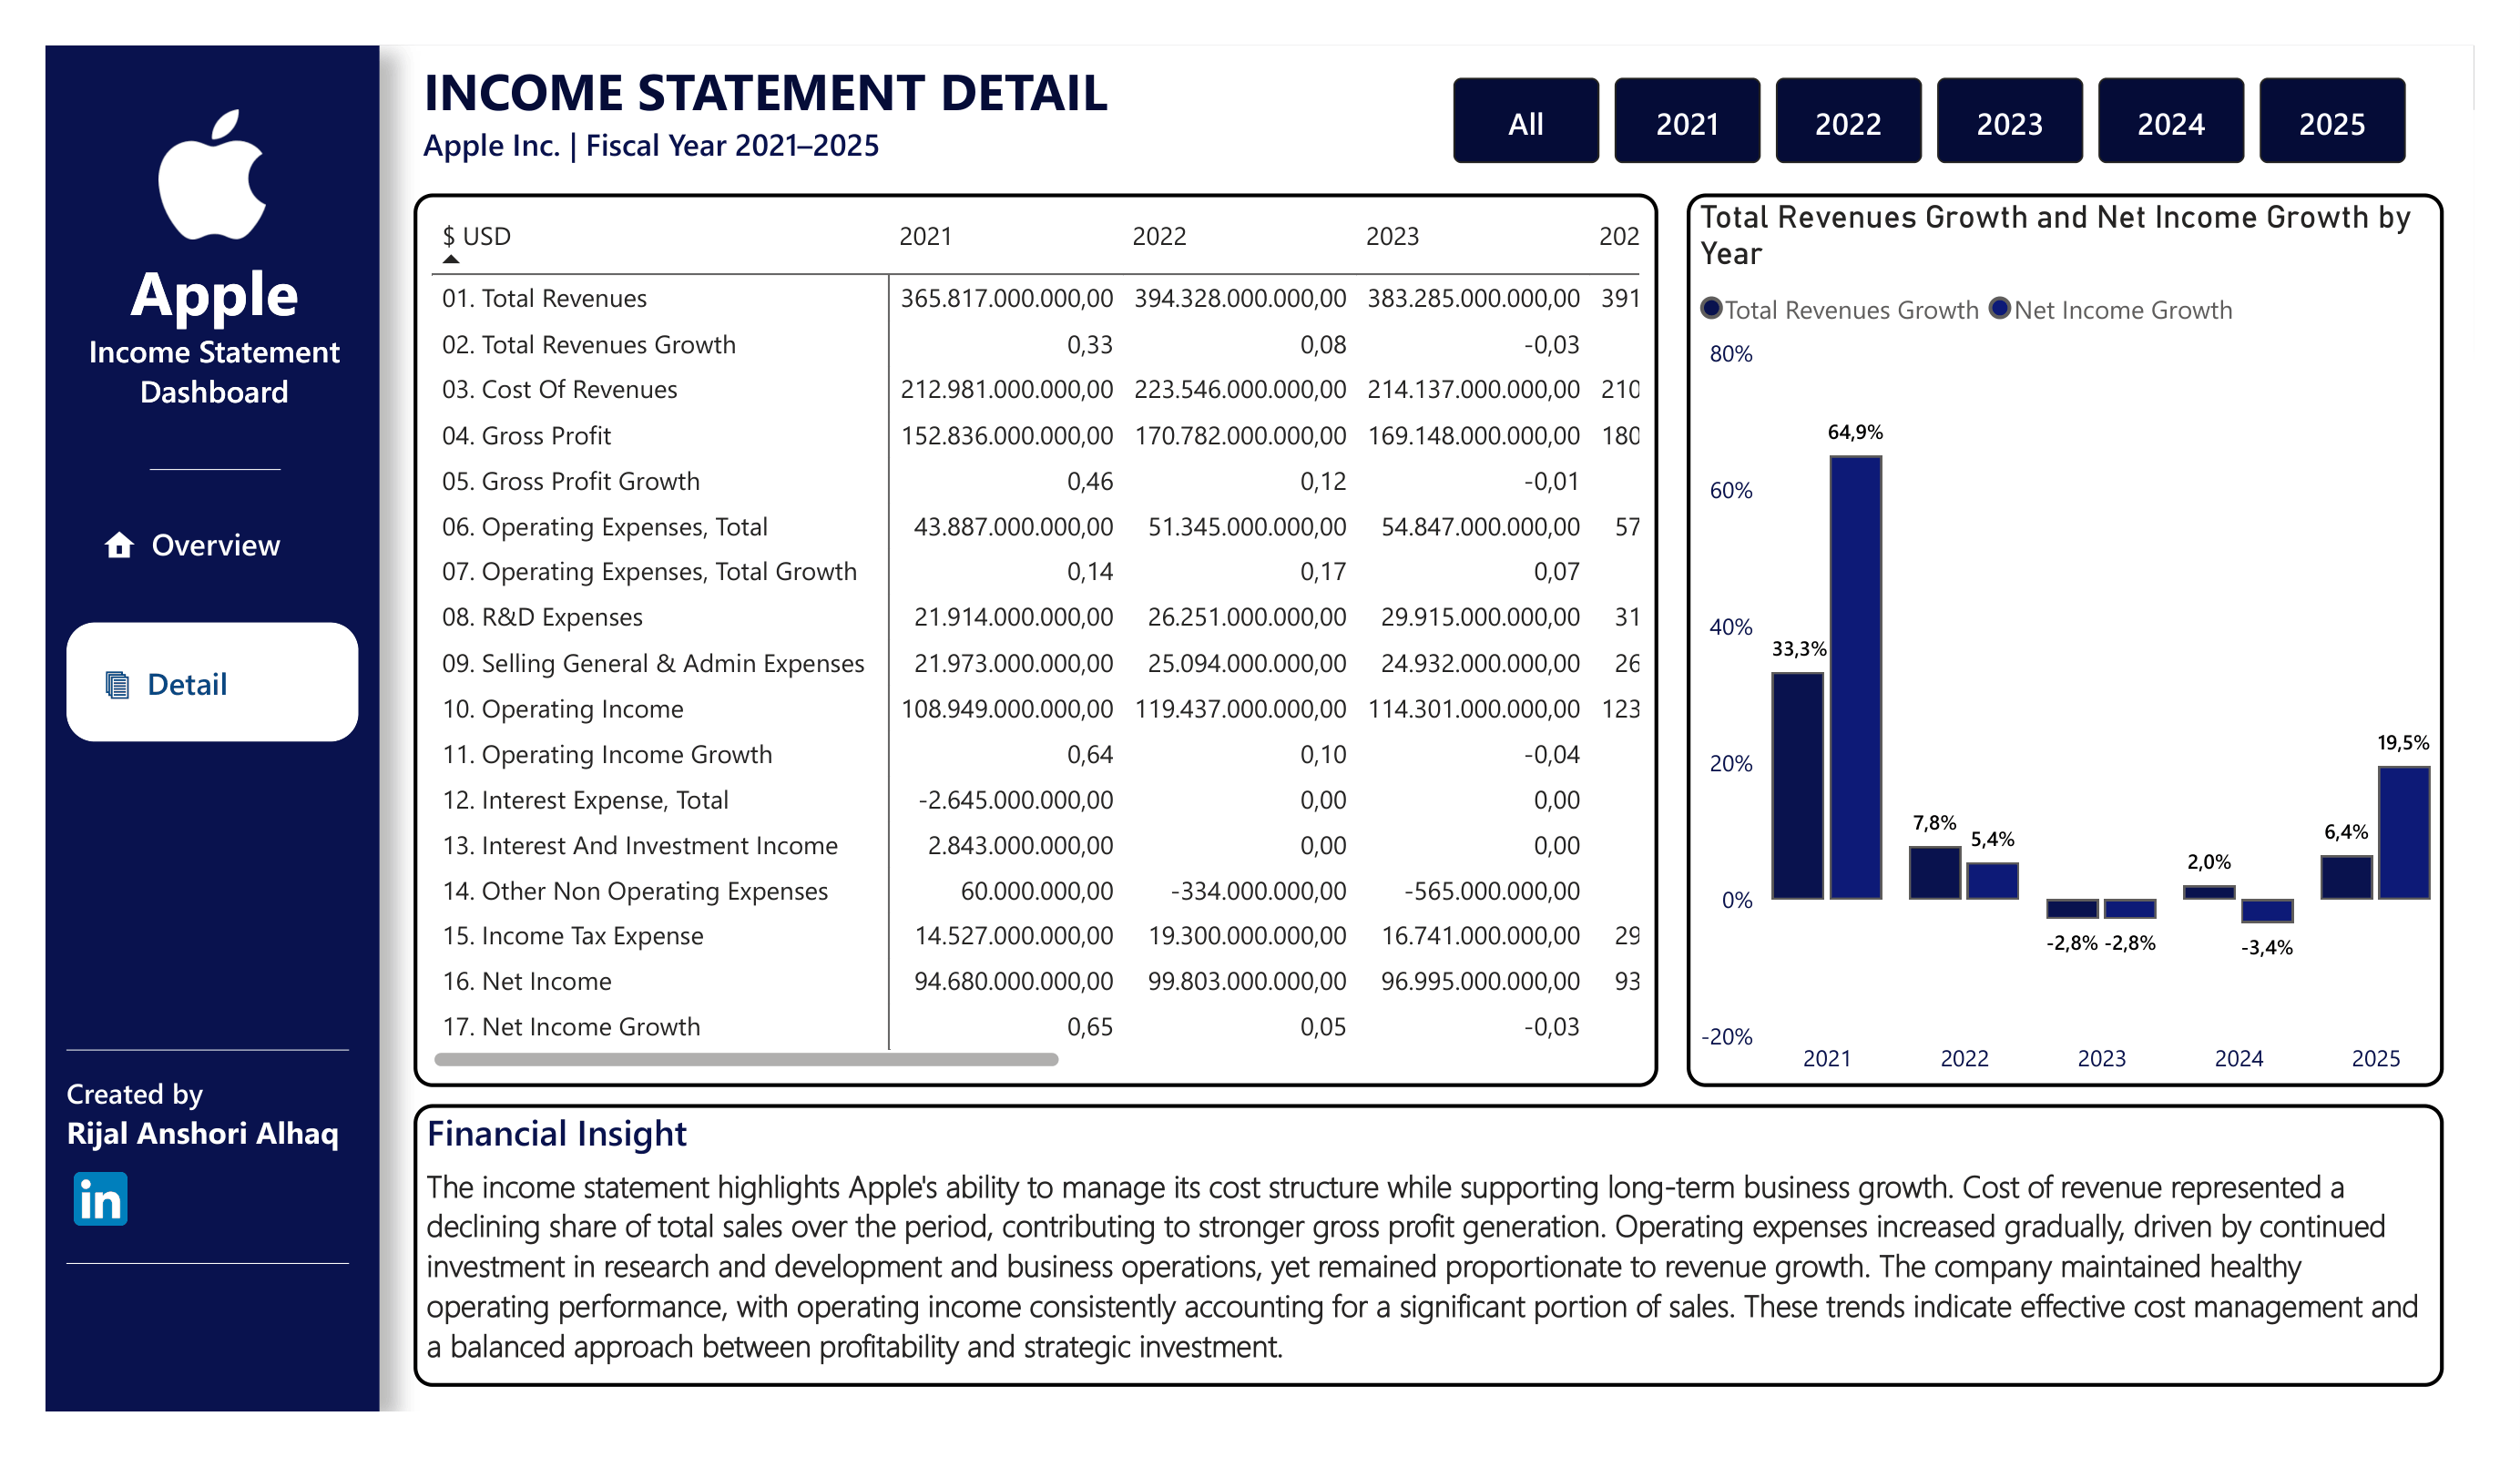

Layout of this report page (visuals, bound fields, positions):
{"tool":"powerbi","page":{"name":"🗐  Detail","canvas":[1280,720],"ordinal":1},"visuals":[{"type":"shape","box":[0,0,176.1,720.2],"z":0,"group":"g1"},{"type":"textbox","box":[194.4,0,463.5,78.3],"z":0},{"type":"textbox","box":[11,536.8,149.2,53.8],"z":0,"group":"g2"},{"type":"pivotTable","fields":{"Rows":["Sheet1.Display Item"],"Columns":["Sheet1.Year"],"Values":["Sum(Sheet1.Value)"]},"box":[194.4,78.3,655.4,470.8],"z":1000},{"type":"textbox","box":[10.8,102.3,156.2,103.7],"z":1000,"group":"g1"},{"type":"image","box":[14.3,593.7,29.3,28.1],"z":1000,"group":"g2"},{"type":"image","box":[59.2,33.7,57.9,68.7],"z":2000,"group":"g1"},{"type":"clusteredColumnChart","fields":{"Category":["Sheet1.Year"],"Y":["Sheet1.Total Revenues Growth","Sheet1.Net Income Growth"]},"box":[864.5,78.3,399.9,470.8],"z":2000},{"type":"advancedSlicerVisual","fields":{"Values":["Sheet1.Year"]},"box":[742.3,12.2,502.6,55],"z":3000},{"type":"textbox","box":[10.8,102.3,156.2,103.7],"z":3000,"group":"g1"},{"type":"pageNavigator","box":[11,231.1,154.1,137],"z":4000,"group":"g1"},{"type":"textbox","title":"Financial Insight","box":[194.4,557.6,1070,149.2],"z":4000},{"type":"group","id":"g1","title":"Group 1","box":[0,0,176.1,720.2],"z":5000},{"type":"group","id":"g2","title":"Group 2","box":[11,536.8,149.2,85.6],"z":5000,"group":"g1"},{"type":"shape","box":[55,216.4,68.5,14.7],"z":6000,"group":"g1"},{"type":"shape","box":[11,522.1,149.2,14.7],"z":7000,"group":"g1"},{"type":"shape","box":[11,634.7,149.2,14.7],"z":8000,"group":"g1"}]}

Visuals, with their boxes in screenshot pixels (x1, y1, x2, y2):
shape: detection(39, 53, 369, 1401)
textbox: detection(403, 53, 1271, 199)
textbox: detection(60, 1057, 340, 1158)
pivotTable - Sheet1.Display Item x Sheet1.Year: detection(403, 199, 1631, 1081)
textbox: detection(59, 244, 352, 438)
image: detection(66, 1164, 121, 1217)
image: detection(150, 116, 259, 244)
clusteredColumnChart - Sheet1.Year x Sheet1.Total Revenues Growth: detection(1658, 199, 2407, 1081)
advancedSlicerVisual - Sheet1.Year: detection(1430, 76, 2371, 178)
textbox: detection(59, 244, 352, 438)
pageNavigator: detection(60, 485, 349, 742)
"Financial Insight" textbox: detection(403, 1096, 2407, 1376)
"Group 1" group: detection(39, 53, 369, 1401)
"Group 2" group: detection(60, 1057, 340, 1218)
shape: detection(142, 458, 270, 485)
shape: detection(60, 1030, 340, 1057)
shape: detection(60, 1241, 340, 1269)
